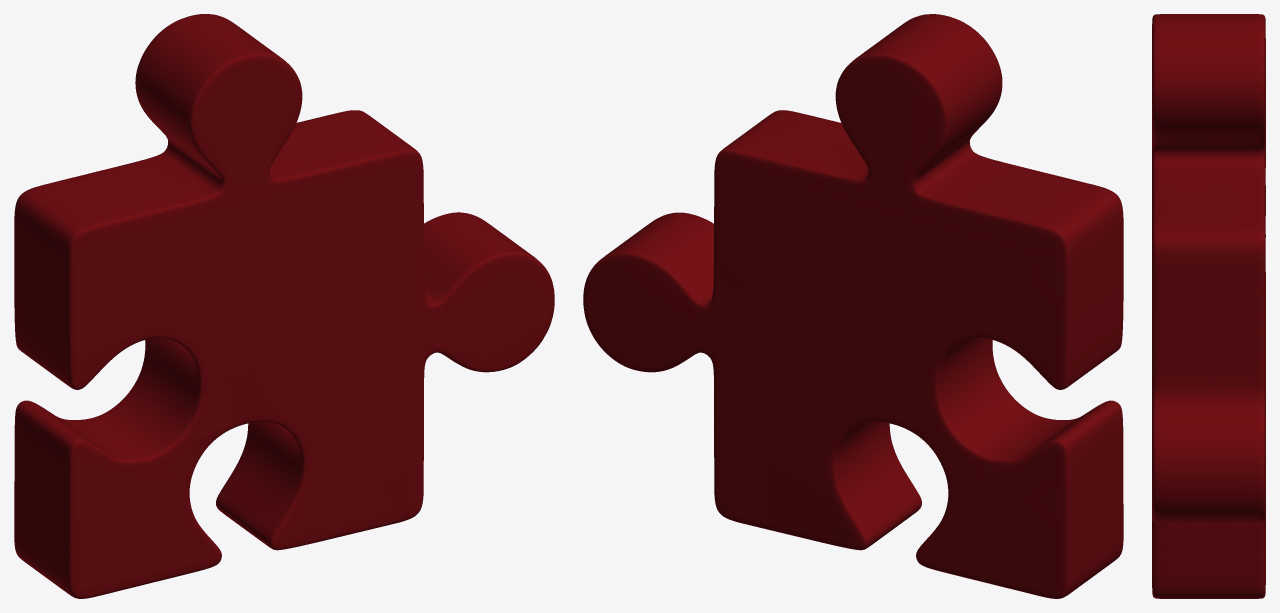
Rendered from puzzle.glb.
The picture shows the model from 3 angles, left to right: view 1: azimuth 30°, elevation 25°; view 2: azimuth 150°, elevation 25°; view 3: azimuth 270°, elevation 25°; orthographic projection.
Visible parts, largest first — view 1: Puzzle; view 2: Puzzle; view 3: Puzzle.
Boxes of the visible parts, x1,y1,x2,y2 form: Puzzle: (14,14,554,598); Puzzle: (583,14,1123,598); Puzzle: (1152,14,1265,598).
Size of the model in its own units: 1.88 by 1.87 by 0.3853.
